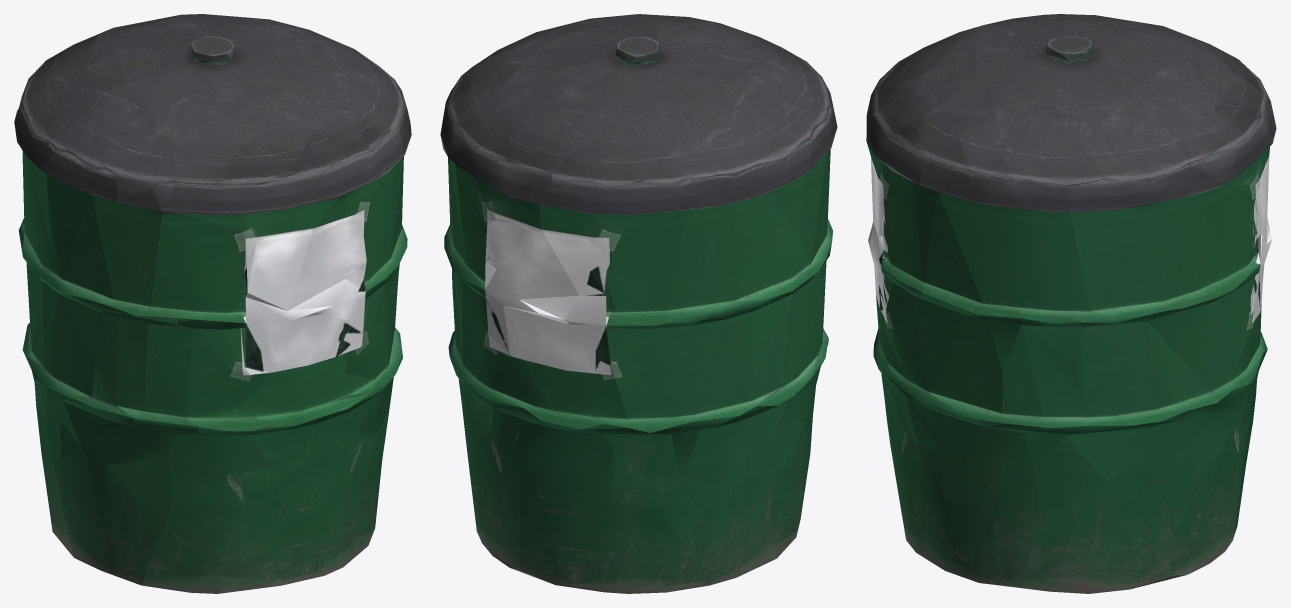
File: bin.glb
3 renders of one model, left to right at view 1: azimuth 30°, elevation 25°; view 2: azimuth 150°, elevation 25°; view 3: azimuth 270°, elevation 25°, orthographic.
Parts seen in each view (by area): view 1: body, lid; view 2: body, lid; view 3: body, lid.
Boxes of the visible parts, bbox=[...] form: body: bbox=[18, 150, 407, 593]; lid: bbox=[14, 14, 411, 232]; body: bbox=[444, 149, 832, 593]; lid: bbox=[440, 14, 837, 230]; body: bbox=[868, 147, 1271, 593]; lid: bbox=[866, 14, 1276, 212].
Bounding box in the file's own units: 0.97 × 1.3 × 1.
1 material, 1 textured.
